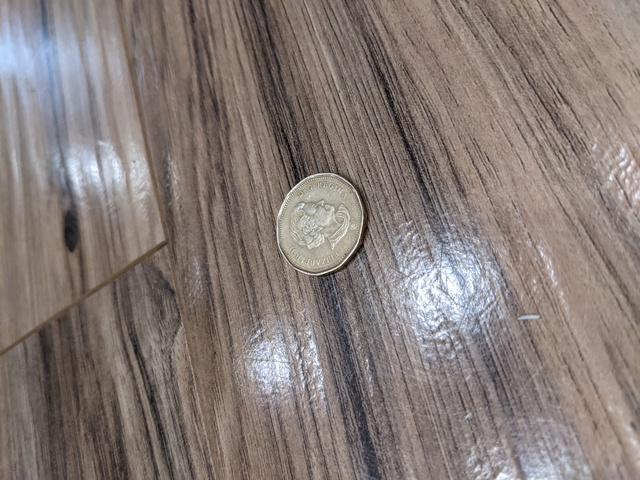loonie: (266, 163, 377, 282)
